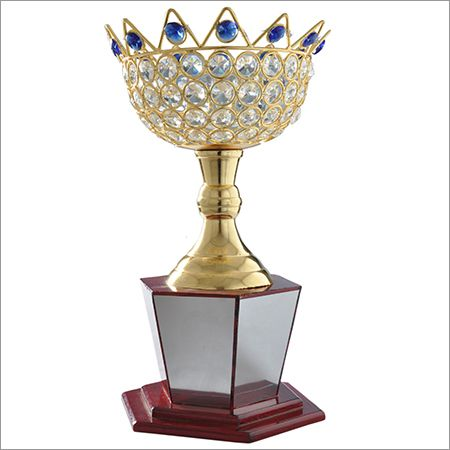trophy: (97, 5, 340, 447)
